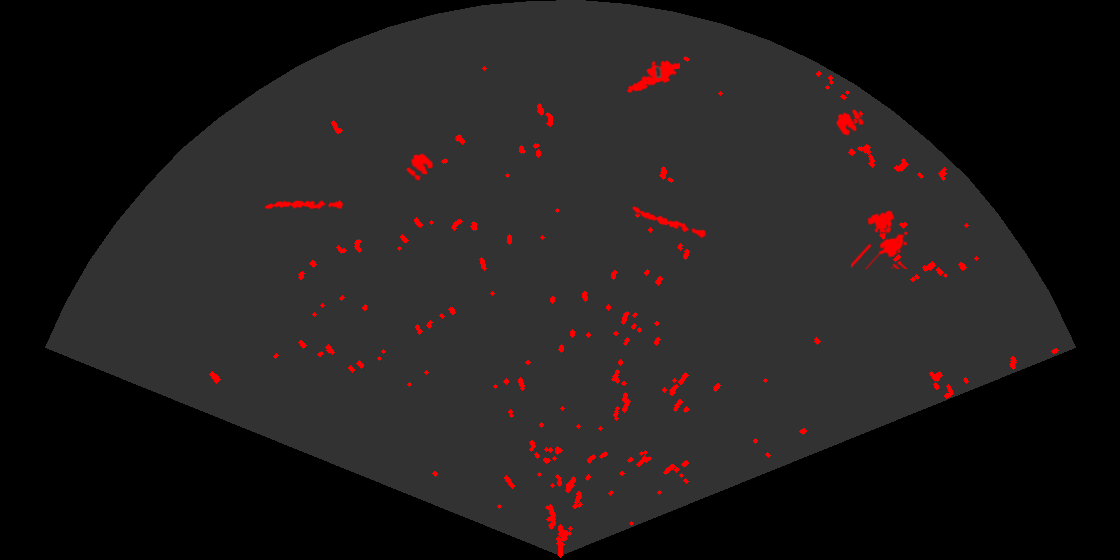ball: (405, 152, 435, 182), (835, 108, 865, 137)
cage: (851, 209, 910, 269)
chain: (630, 205, 709, 240), (264, 198, 344, 211)
frogman: (625, 59, 680, 94)
